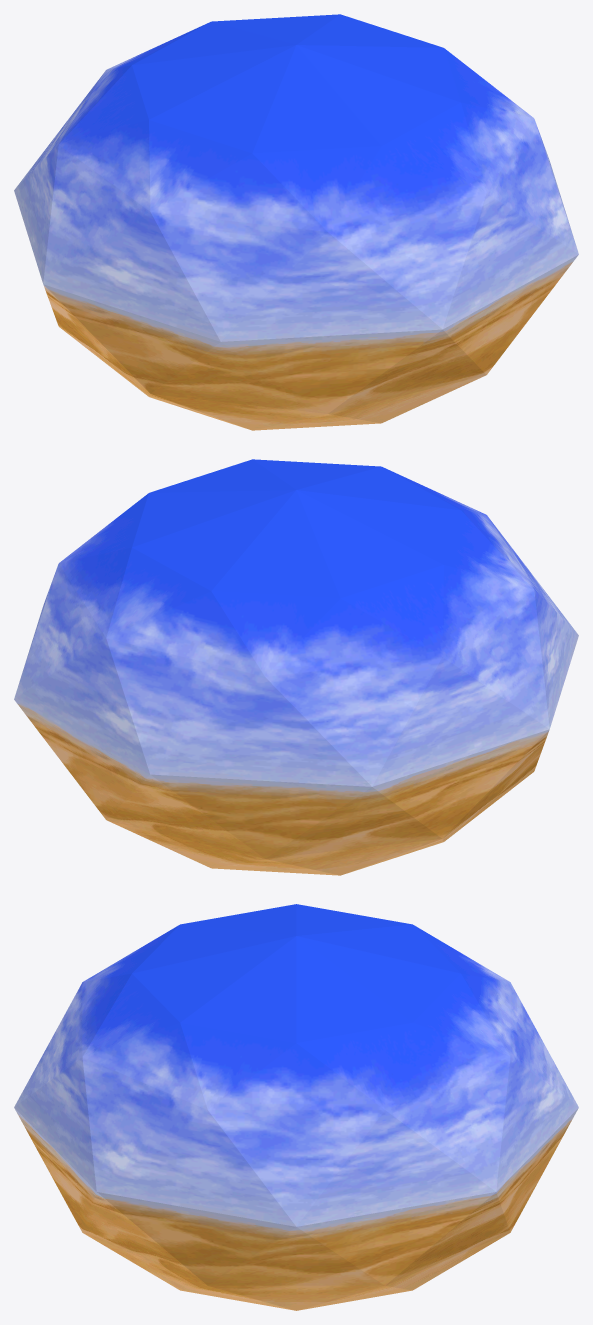
The picture shows the model from 3 angles, top to bottom: view 1: azimuth 30°, elevation 25°; view 2: azimuth 150°, elevation 25°; view 3: azimuth 270°, elevation 25°; orthographic projection. The views are drawn at different scales.
Visible parts, largest first — view 1: vr06; view 2: vr06; view 3: vr06.
Boxes of the visible parts, x1,y1,x2,y2 form: vr06: (14, 14, 578, 430); vr06: (14, 459, 578, 875); vr06: (14, 904, 578, 1310).
Bounding box in the file's own units: 117964 × 70344 × 117964.
3 materials, 3 textured.
